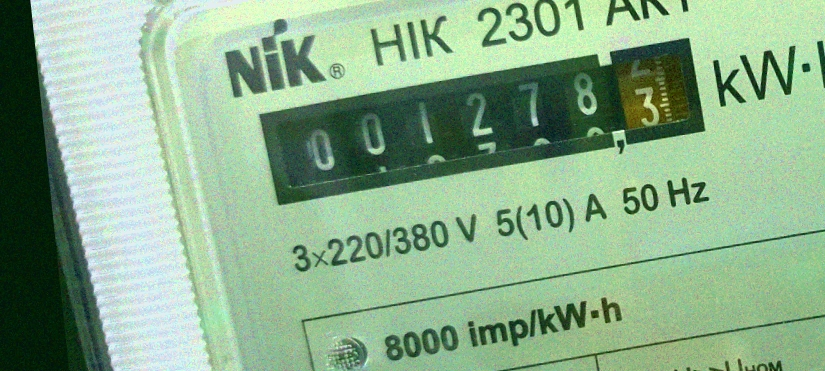0: (306, 124, 339, 174), (357, 109, 387, 158)
1: (415, 98, 437, 147)
2: (462, 89, 494, 138), (625, 57, 653, 80)
3: (631, 81, 662, 127)
7: (516, 79, 544, 129)
8: (570, 69, 600, 118)
screen: (236, 25, 725, 217)
